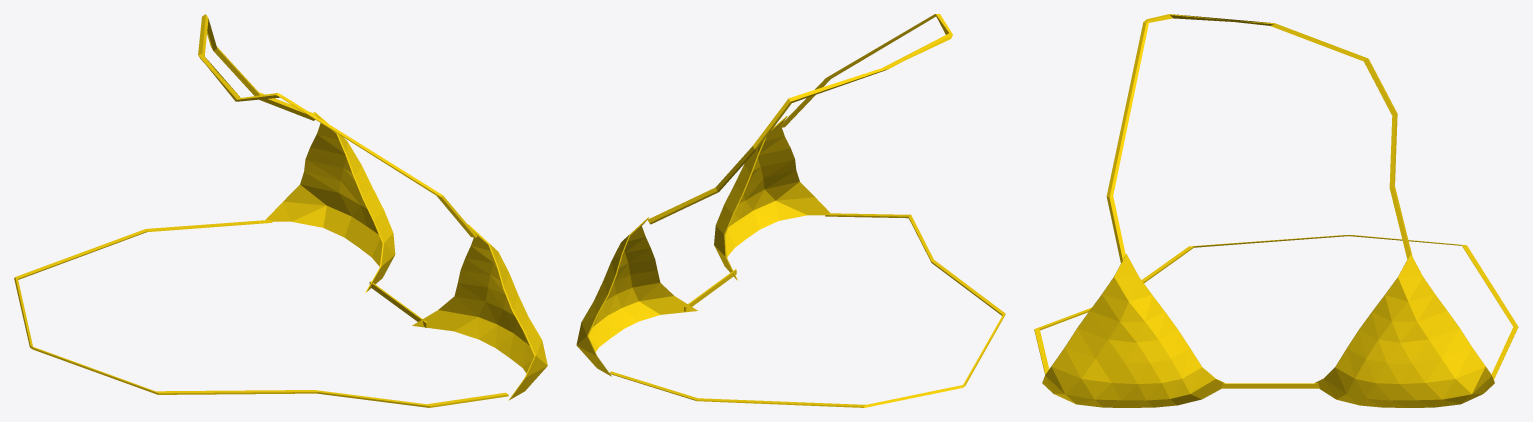
The model's file is bikini.fbx.
3 renders of one model, left to right at view 1: azimuth 30°, elevation 25°; view 2: azimuth 150°, elevation 25°; view 3: azimuth 270°, elevation 25°, orthographic. The views are drawn at different scales.
Visible parts, largest first — view 1: Plane.001; view 2: Plane.001; view 3: Plane.001.
Part boxes in pixels (box(x1,y1,x2,y2)): Plane.001: box(14, 14, 547, 407); Plane.001: box(576, 14, 1005, 407); Plane.001: box(1034, 14, 1518, 407).
Size of the model in its own units: 124 by 97.93 by 149.
1 material, 1 textured.
